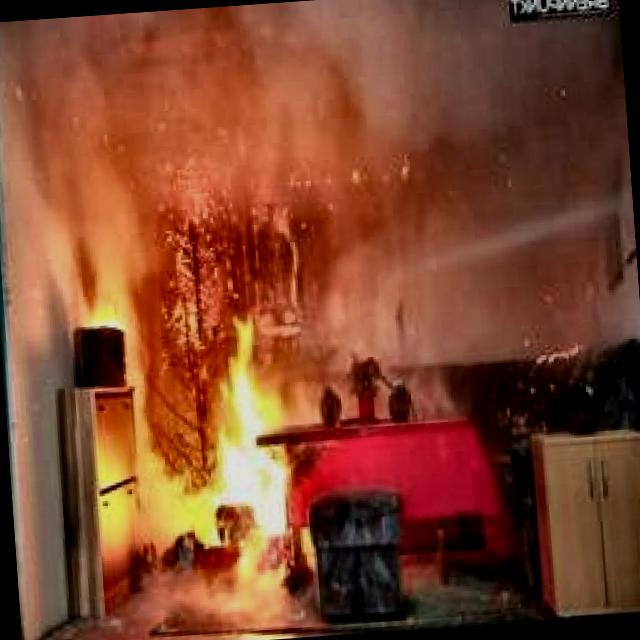fire: (164, 294, 326, 562)
smoke: (251, 0, 529, 276)
